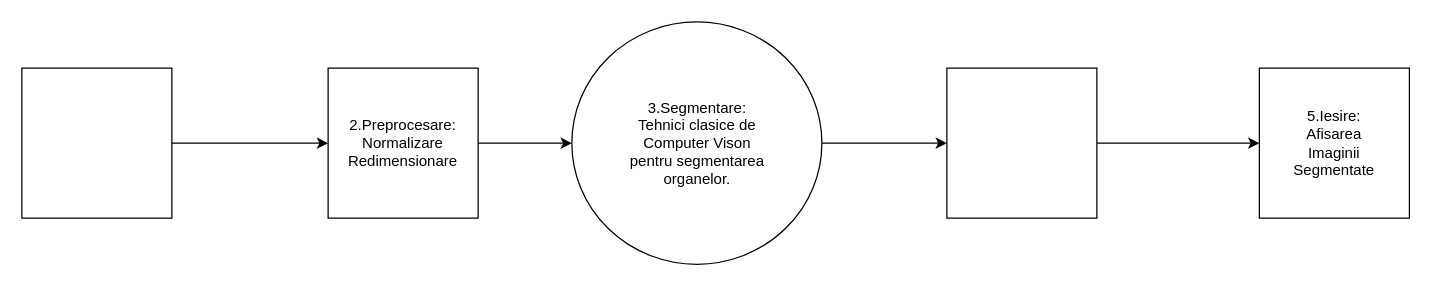
The diagram is 1431 pixels wide and 286 high, and some of its shapes have lost their labels. Each missing label, with the centre of its shape:
"1.Intrare: Incarcarea Imaginii" goes at pixel 96 142.
"4.Postprocesare: Curatarea Mastii Conversia Inapoi" goes at pixel 1021 142.
